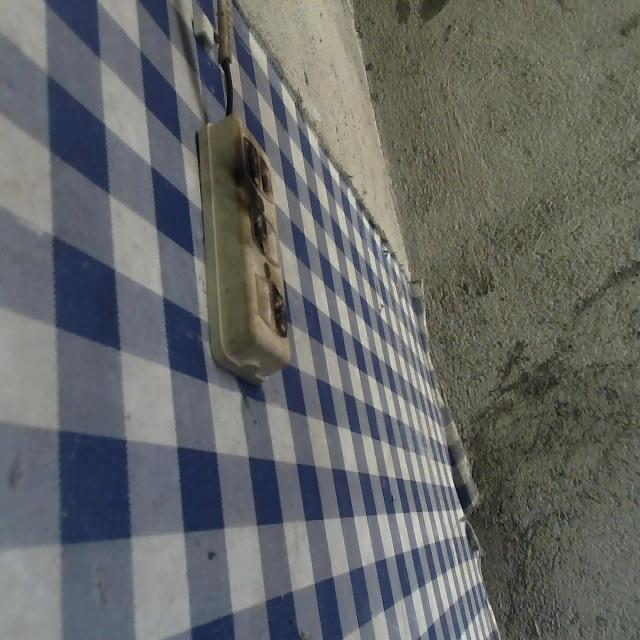-: (238, 132, 276, 201), (243, 203, 270, 256), (268, 278, 289, 338)
